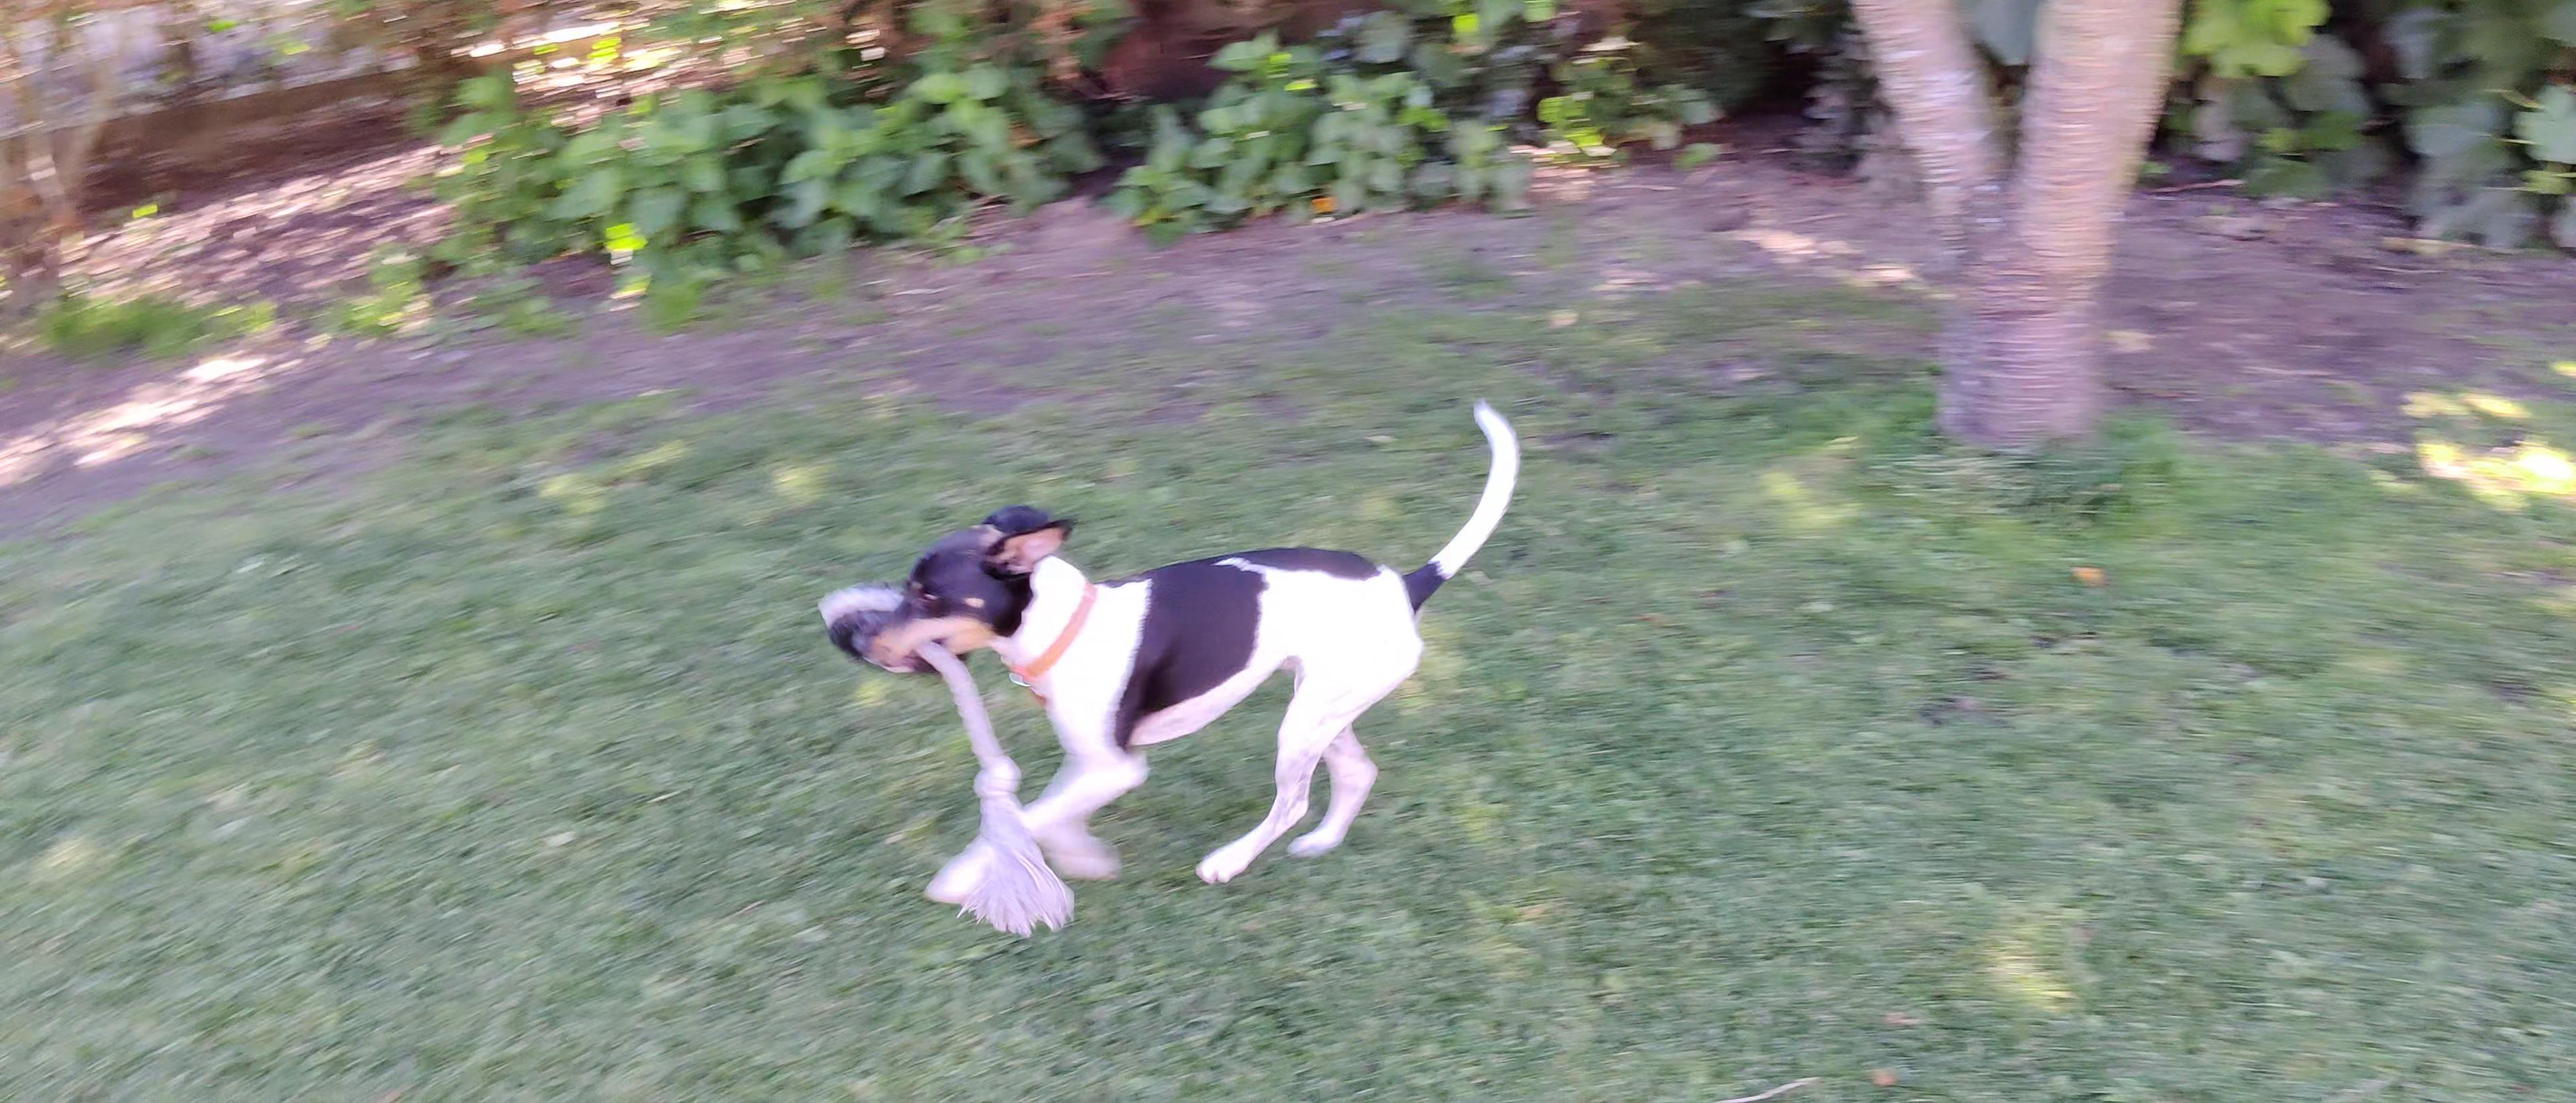Dog: (825, 385, 1533, 914)
